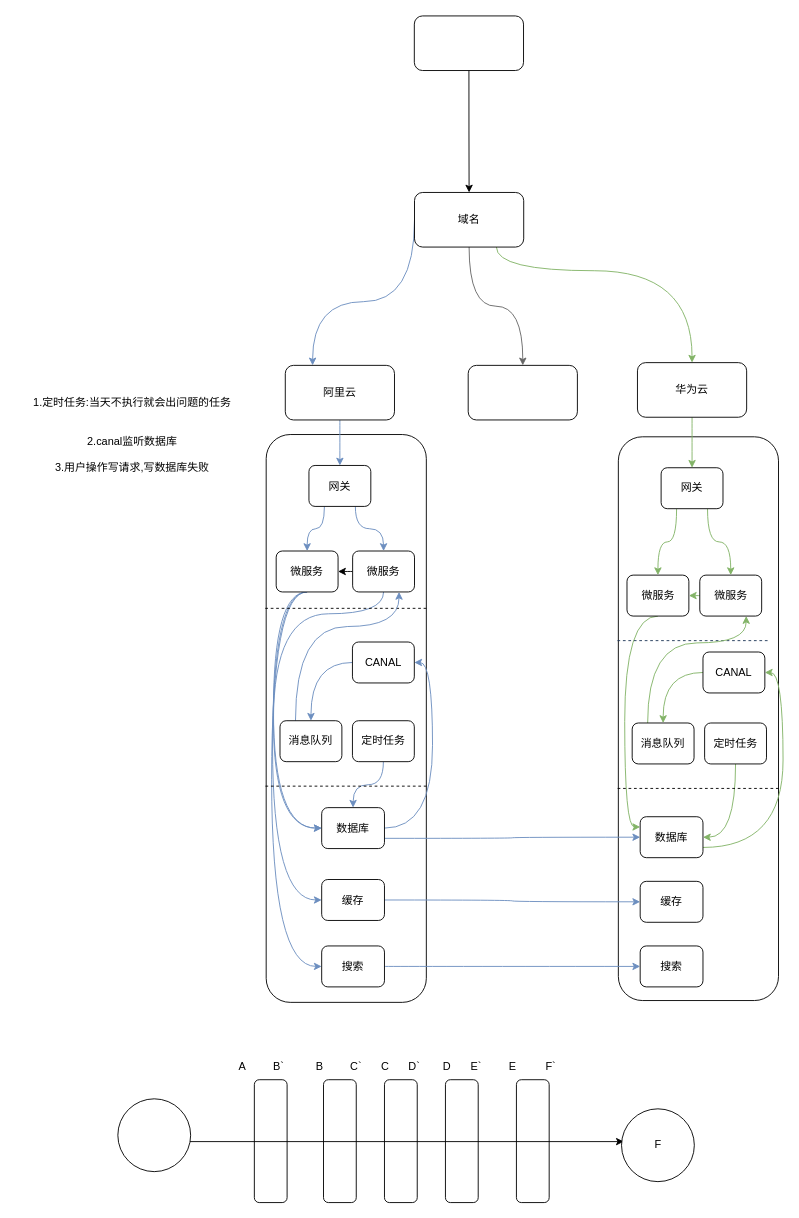
Some shapes in this 799 by 1218 pixel diagram are drawn without their labels. The shapes that lost their labels are listed below. From the top down, each one's centre as x and y in pixels, then its label:
At point (468, 43): "H5".
At point (522, 392): "维护页".
At point (154, 1135): "A`".
